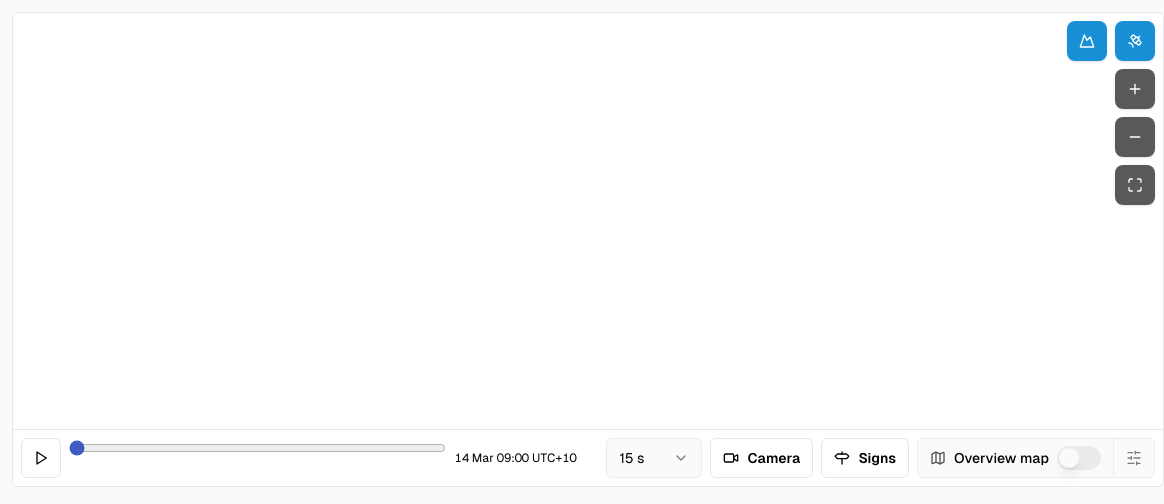
Test case: ReplayPanel › does not zoom when resuming after a pause or after scrubbing mid-replay
The width and height of the screenshot is (1164, 504).
Set the slider named "Replay position" to "500": x=258, y=448 [69,440,446,456]
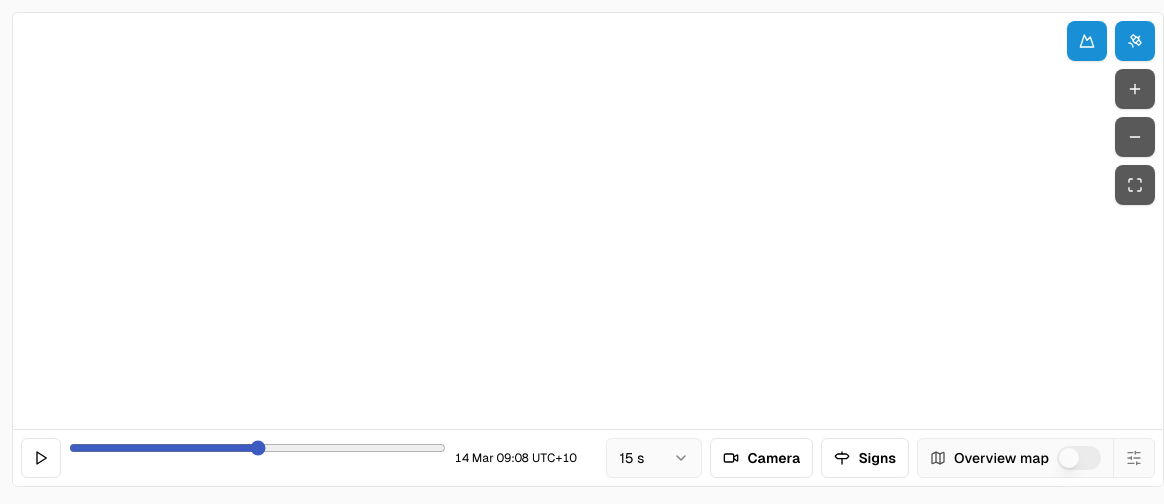
Click the button named "Play replay": x=41, y=458 [21,438,61,478]
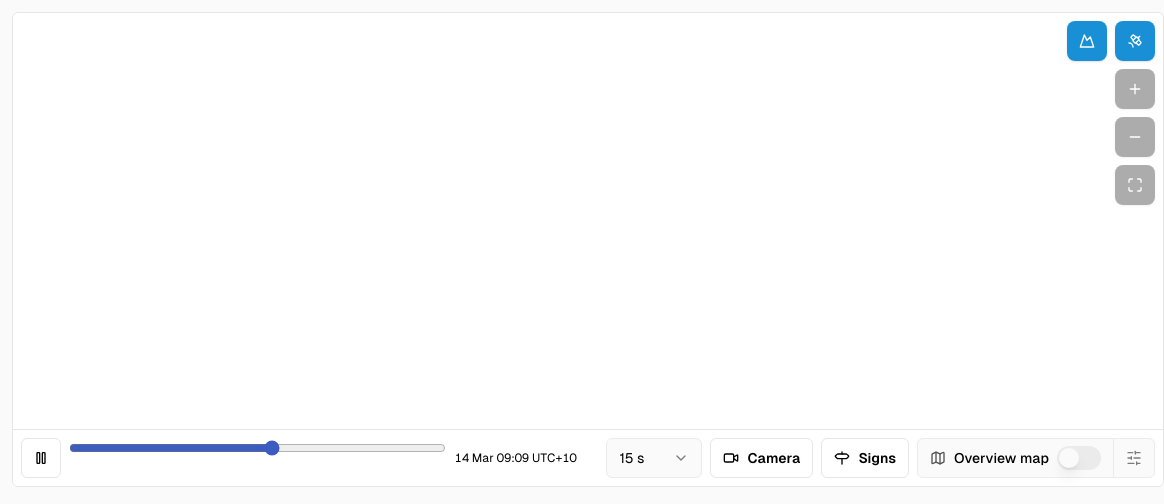
Now the button named "Pause replay" is shown, box [21,438,61,478]
